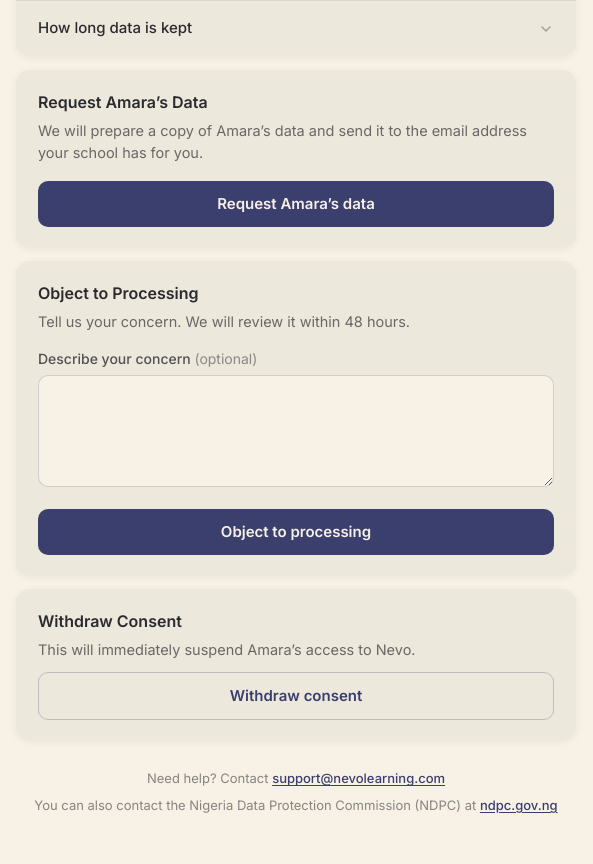
Test: withdrawing consent › cannot be done in one tap
(page scrolled)
Click the button "Withdraw consent" at (296, 696), box [38,672,554,720]
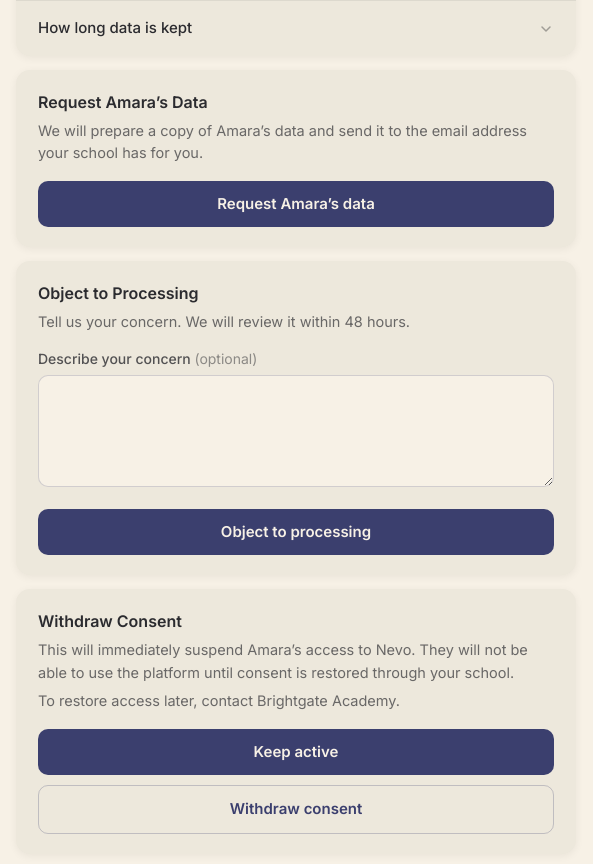
Expected: the button "Keep active" is shown, [38,729,554,775]
